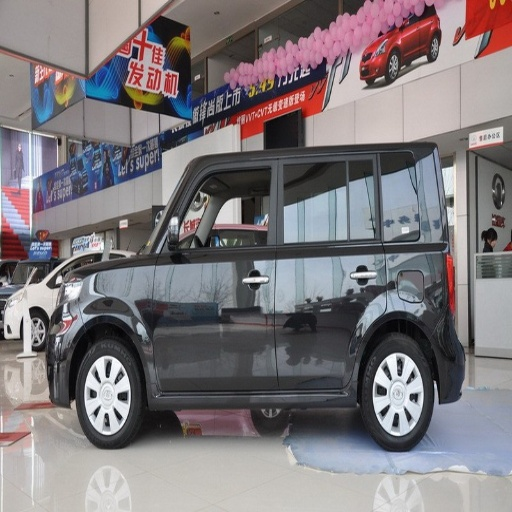back_left_door: (278, 162, 388, 387)
front_left_door: (152, 163, 277, 392)
trunk: (399, 252, 437, 320)
